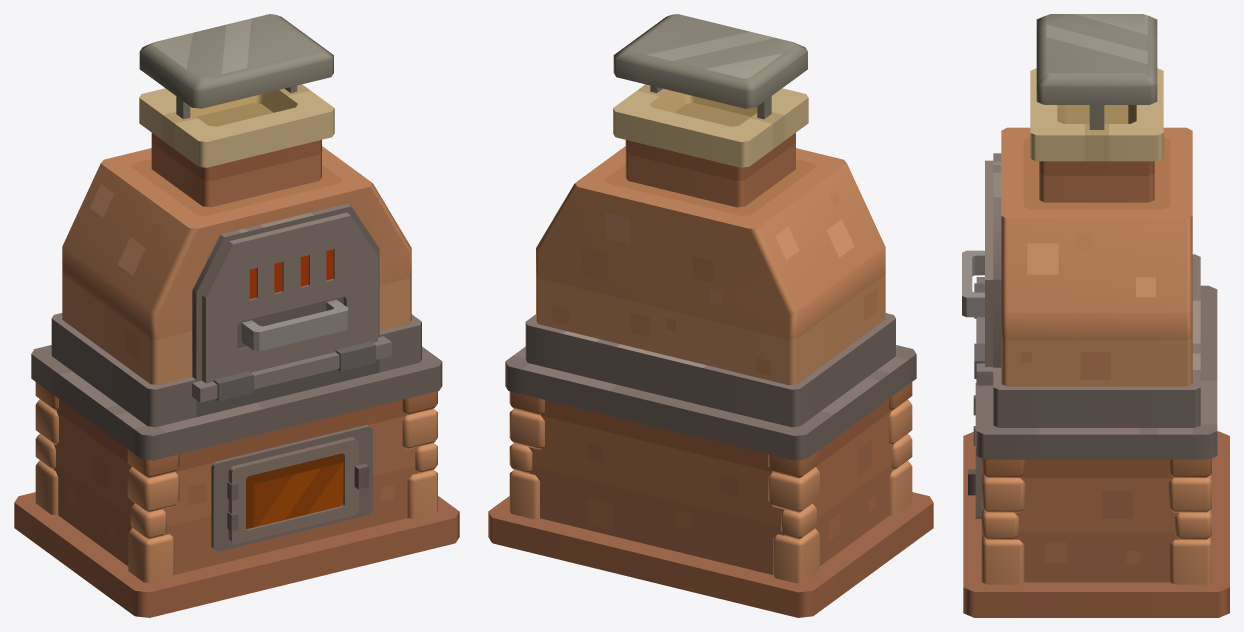
The model's file is gdOvenSilver.obj.
3 renders of one model, left to right at view 1: azimuth 30°, elevation 25°; view 2: azimuth 150°, elevation 25°; view 3: azimuth 270°, elevation 25°, orthographic.
Visible parts, largest first — view 1: gdOvenSilver, gdOvenSilver_LidUp, gdOvenSilver_LidDown; view 2: gdOvenSilver; view 3: gdOvenSilver, gdOvenSilver_LidUp, gdOvenSilver_LidDown.
Boxes of the visible parts, x1,y1,x2,y2 form: gdOvenSilver: [14, 14, 459, 617]; gdOvenSilver_LidUp: [192, 212, 391, 402]; gdOvenSilver_LidDown: [227, 437, 368, 544]; gdOvenSilver: [488, 14, 933, 617]; gdOvenSilver: [963, 14, 1229, 617]; gdOvenSilver_LidUp: [962, 160, 993, 385]; gdOvenSilver_LidDown: [968, 383, 981, 519].
Bounding box in the file's own units: 5.08 × 7.27 × 3.58.
